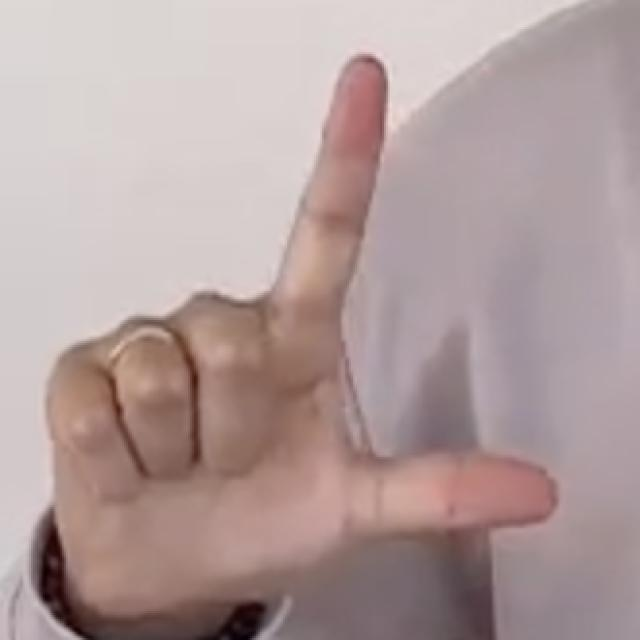LL: (44, 36, 571, 613)
